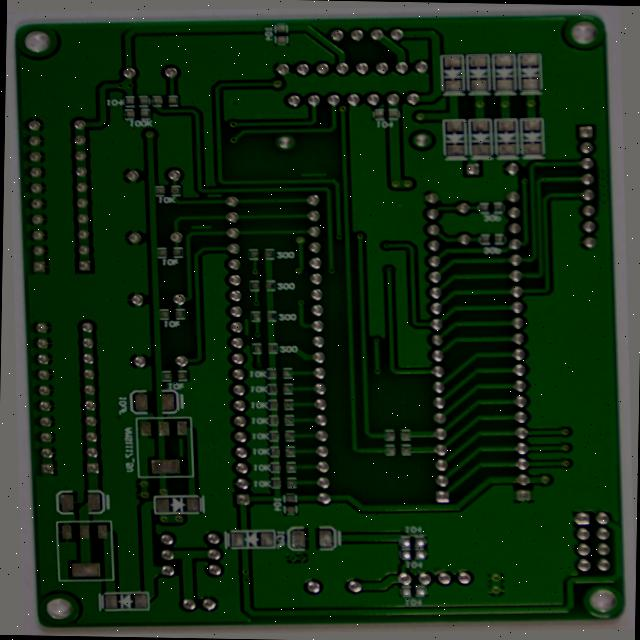spurious_copper: (302, 162, 336, 179), (159, 435, 179, 459), (234, 314, 252, 337), (185, 215, 213, 228), (203, 183, 227, 194)
